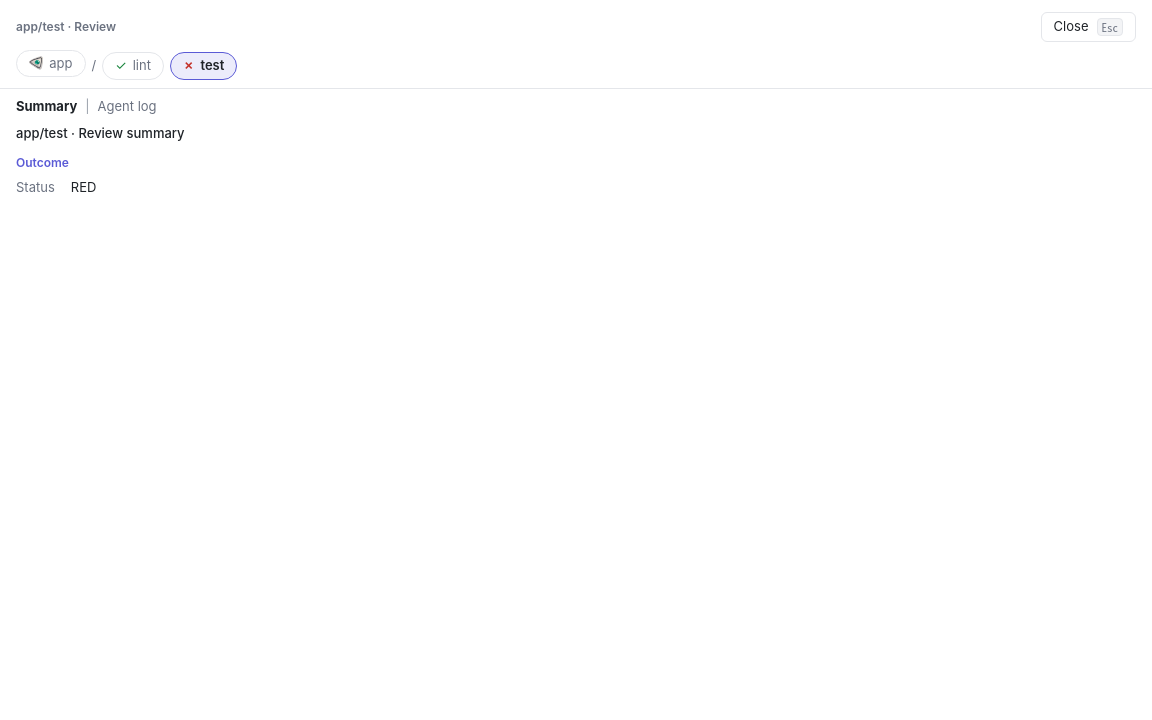
it: shows an Agent eval's Summary first and its Agent log on the switch below the tabs; Close stays alone
Expected: the heading "Outcome" is shown, [16, 155, 69, 170]
Expected: the buttons read "Close Esc", in this order, [1041, 12, 1136, 42]
Click the tab "Agent log": x=127, y=107 [98, 97, 156, 116]
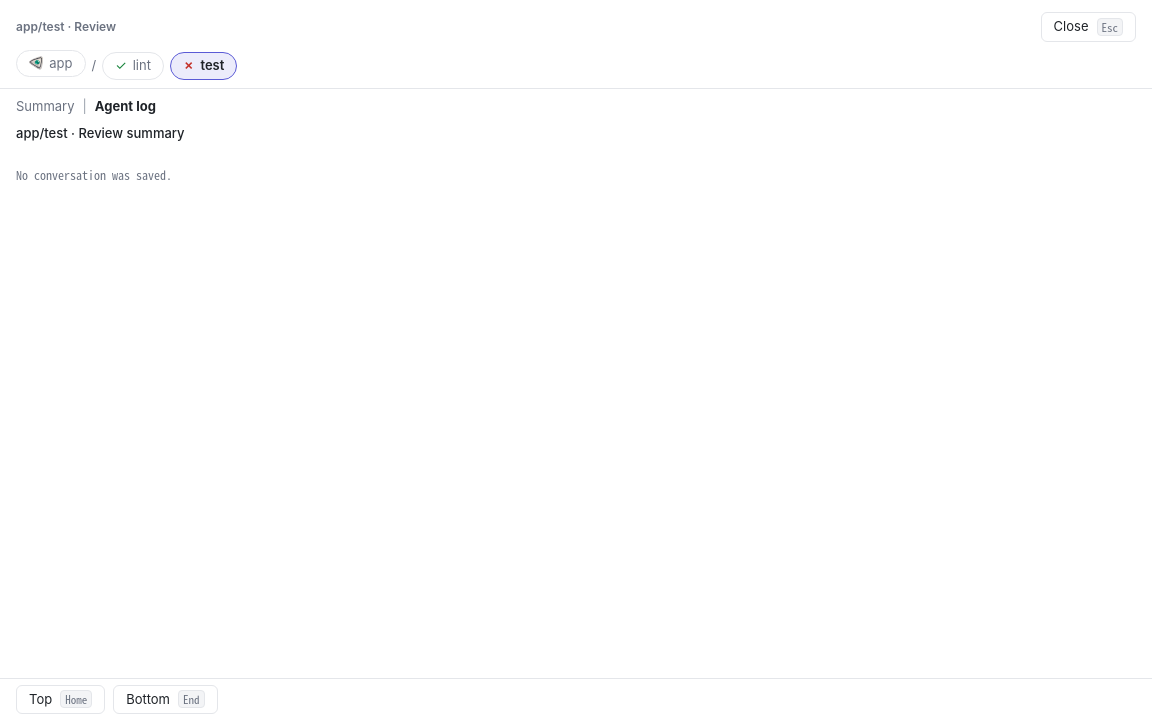
Expected: the element named "Agent transcript" is shown, [16, 166, 172, 183]
Expected: the heading "Outcome" is gone
